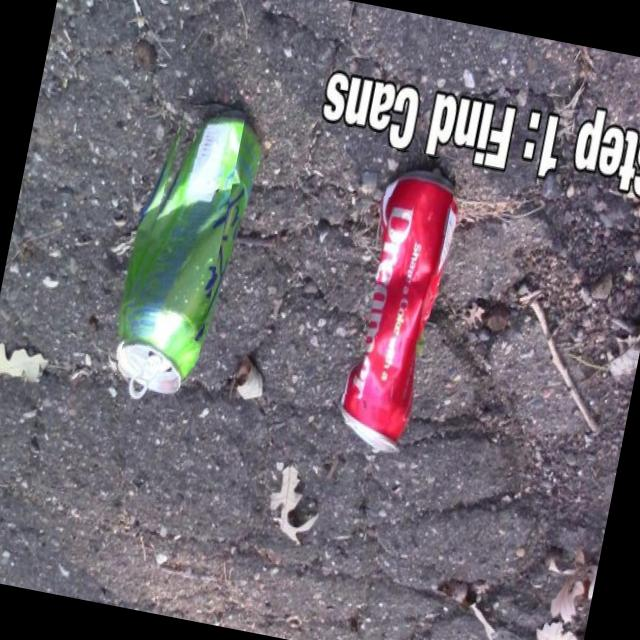Cans: (318, 142, 459, 440), (114, 93, 246, 389)
